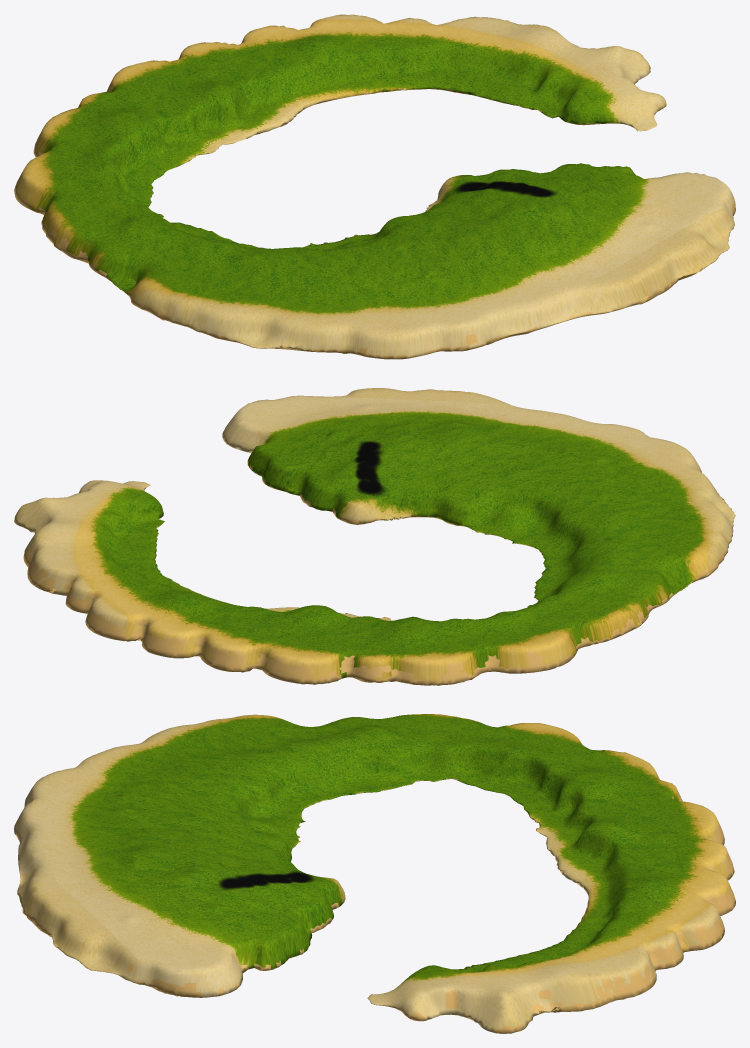
The model's file is island.fbx.
3 views of the same model, one above another, from view 1: azimuth 30°, elevation 25°; view 2: azimuth 150°, elevation 25°; view 3: azimuth 270°, elevation 25° (orthographic). The views are drawn at different scales.
Visible parts, largest first — view 1: tripo_node_fe047d5c-aa42-4131-a98c-f395fcb50dd5; view 2: tripo_node_fe047d5c-aa42-4131-a98c-f395fcb50dd5; view 3: tripo_node_fe047d5c-aa42-4131-a98c-f395fcb50dd5.
Boxes of the visible parts, box(x1,y1,x2,y2) form: tripo_node_fe047d5c-aa42-4131-a98c-f395fcb50dd5: box(14, 14, 735, 359); tripo_node_fe047d5c-aa42-4131-a98c-f395fcb50dd5: box(14, 388, 735, 685); tripo_node_fe047d5c-aa42-4131-a98c-f395fcb50dd5: box(14, 714, 735, 1033).
Size of the model in its own units: 2238 by 133 by 2242.
